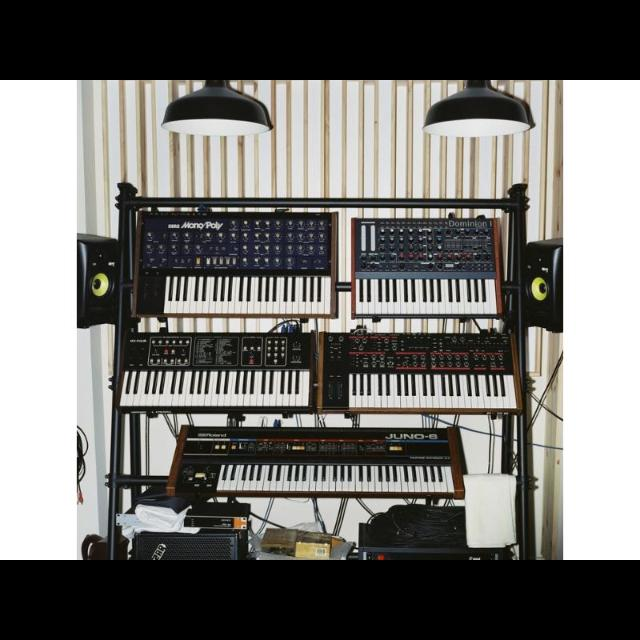Electronic-Keyboard: (157, 418, 480, 502), (132, 202, 336, 318), (320, 326, 526, 420), (345, 212, 505, 322), (117, 333, 311, 412)
